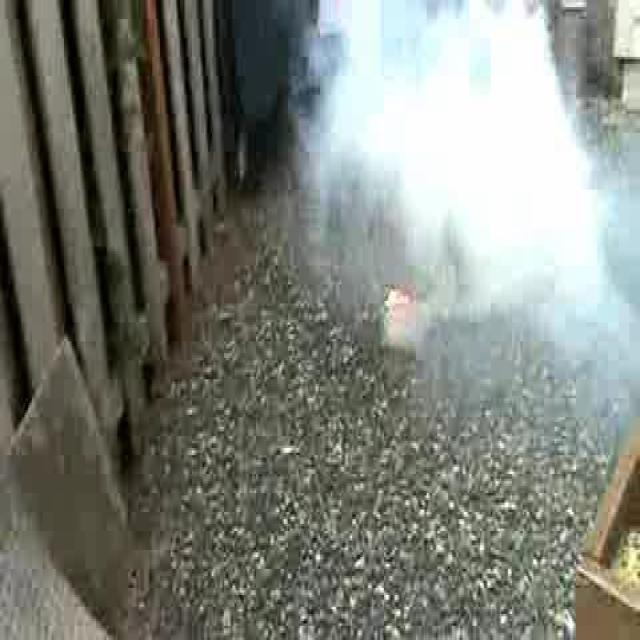Smoke: (260, 0, 640, 455)
